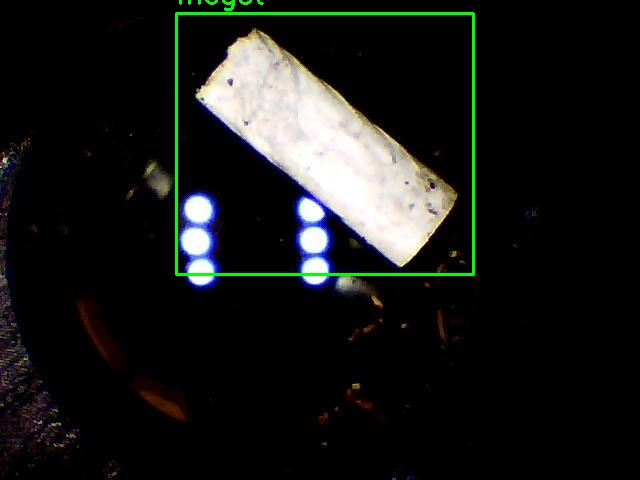megot: (176, 13, 473, 274)
